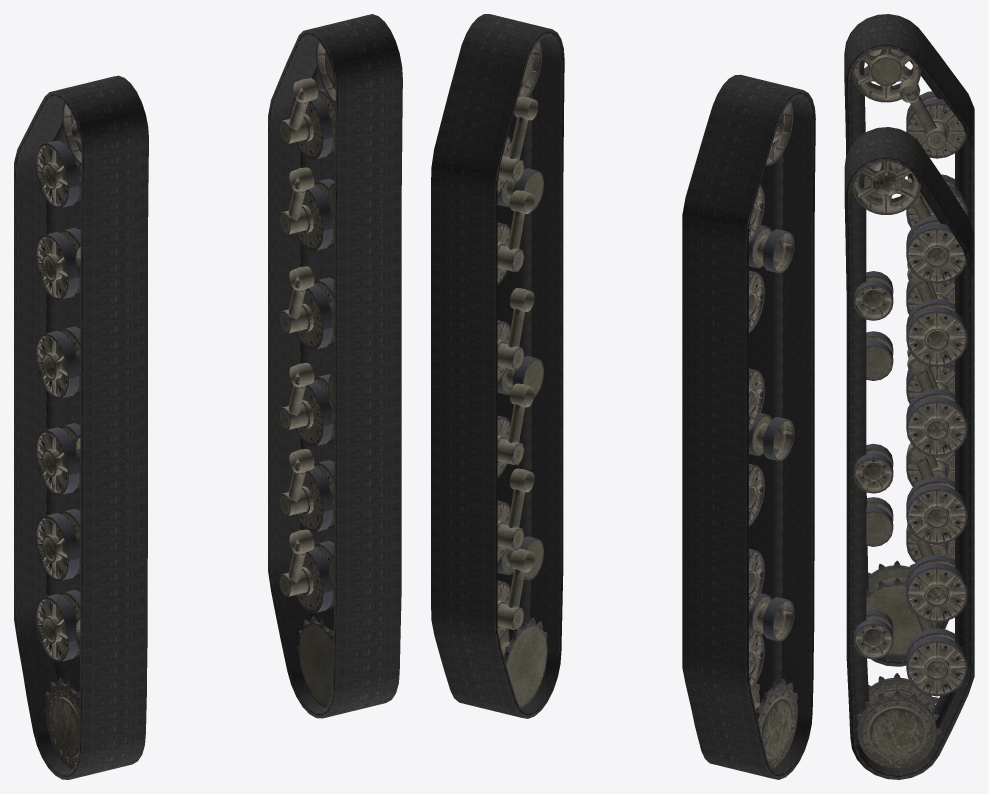
The model's file is Chassis.glb.
3 renders of one model, left to right at view 1: azimuth 30°, elevation 25°; view 2: azimuth 150°, elevation 25°; view 3: azimuth 270°, elevation 25°, orthographic. The views are drawn at different scales.
Visible parts, largest first — view 1: set_3_group_0, set_2_group_0, set_0_group_0, set_1_group_0; view 2: set_3_group_0, set_2_group_0, set_0_group_0, set_1_group_0; view 3: set_0_group_0, set_2_group_0, set_1_group_0, set_3_group_0.
Part boxes in pixels (<box>): set_3_group_0: <box>14,75,148,779</box>; set_2_group_0: <box>268,14,402,718</box>; set_0_group_0: <box>278,42,335,707</box>; set_1_group_0: <box>35,103,81,768</box>; set_3_group_0: <box>682,74,815,779</box>; set_2_group_0: <box>431,14,564,718</box>; set_0_group_0: <box>497,41,547,707</box>; set_1_group_0: <box>749,102,797,768</box>; set_0_group_0: <box>852,161,967,768</box>; set_2_group_0: <box>844,127,974,779</box>; set_1_group_0: <box>852,48,967,655</box>; set_3_group_0: <box>844,14,974,666</box>.
Size of the model in its own units: 3.25 by 6.72 by 1.27.
4 materials, 4 textured.
